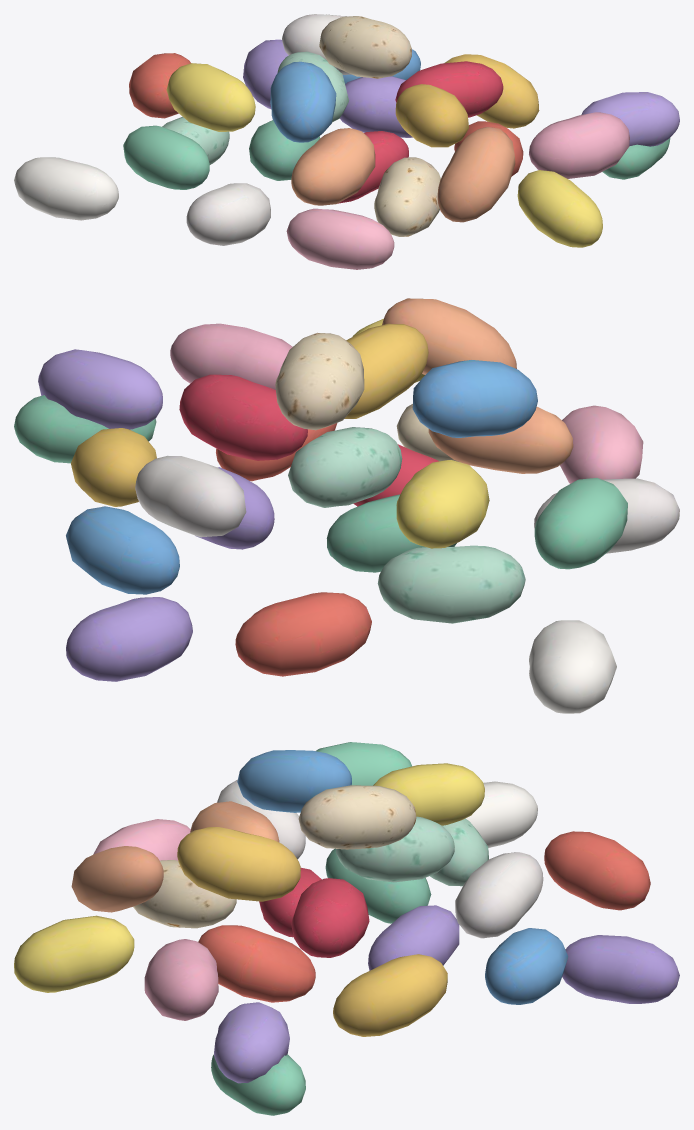
Rendered from gominolas.glb.
3 renders of one model, top to bottom at view 1: azimuth 30°, elevation 25°; view 2: azimuth 150°, elevation 25°; view 3: azimuth 270°, elevation 25°, orthographic. The views are drawn at different scales.
Visible parts, largest first — view 1: jelly-beans_body; view 2: jelly-beans_body; view 3: jelly-beans_body.
Boxes of the visible parts, x1,y1,x2,y2 form: jelly-beans_body: [14, 14, 679, 269]; jelly-beans_body: [14, 298, 679, 713]; jelly-beans_body: [14, 742, 679, 1115].
Bounding box in the file's own units: 0.1152 × 0.0344 × 0.107.
Materials: 1 (1 with a texture image).
